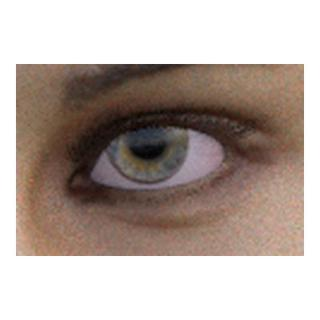pupil: (129, 123, 165, 159)
